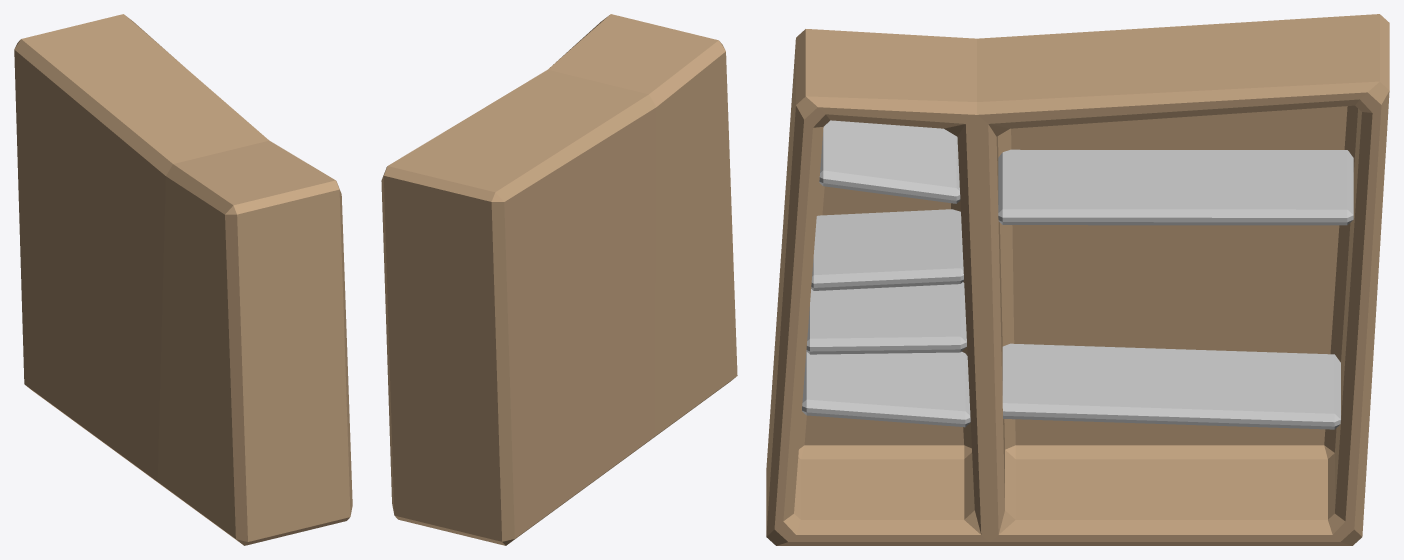
The model's file is Sm_Shelf01.fbx.
3 renders of one model, left to right at view 1: azimuth 30°, elevation 25°; view 2: azimuth 150°, elevation 25°; view 3: azimuth 270°, elevation 25°, orthographic. The views are drawn at different scales.
Visible parts, largest first — view 1: SM_Shelf; view 2: SM_Shelf; view 3: SM_Shelf.
Boxes of the visible parts, <box> form: SM_Shelf: <box>14,14,352,545</box>; SM_Shelf: <box>381,14,737,545</box>; SM_Shelf: <box>766,14,1389,545</box>.
Bounding box in the file's own units: 54.05 × 154 × 187.
